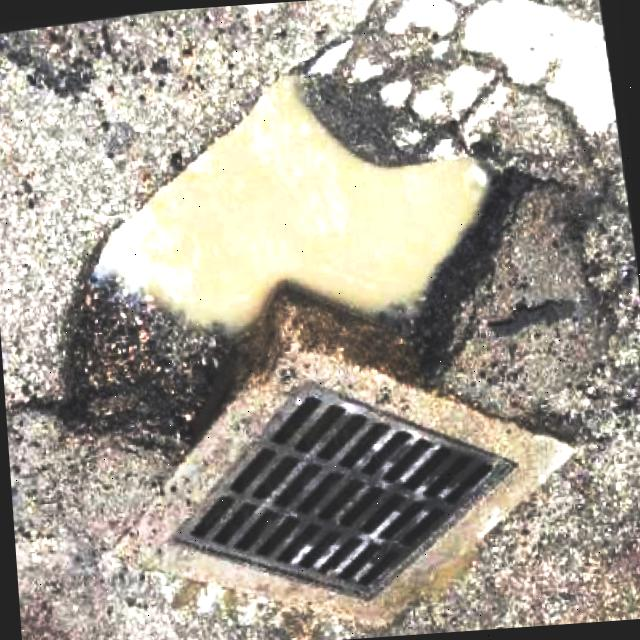pothole: (33, 39, 556, 480)
